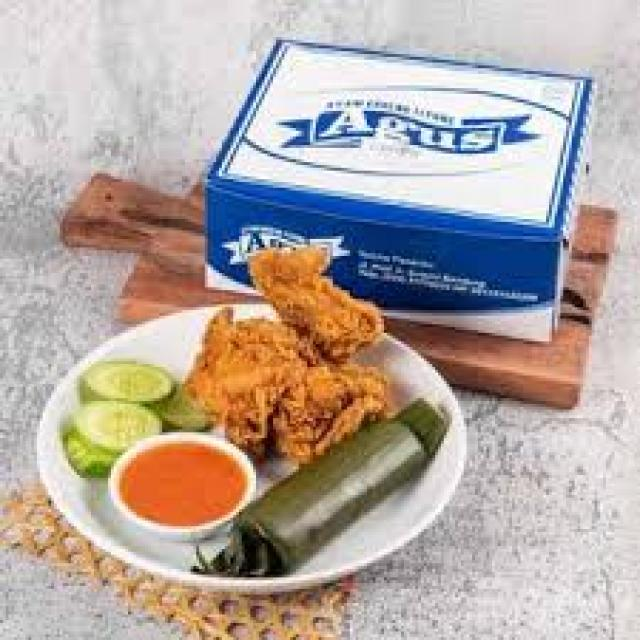Frango: (196, 316, 322, 441), (250, 244, 384, 358), (267, 364, 398, 455)
